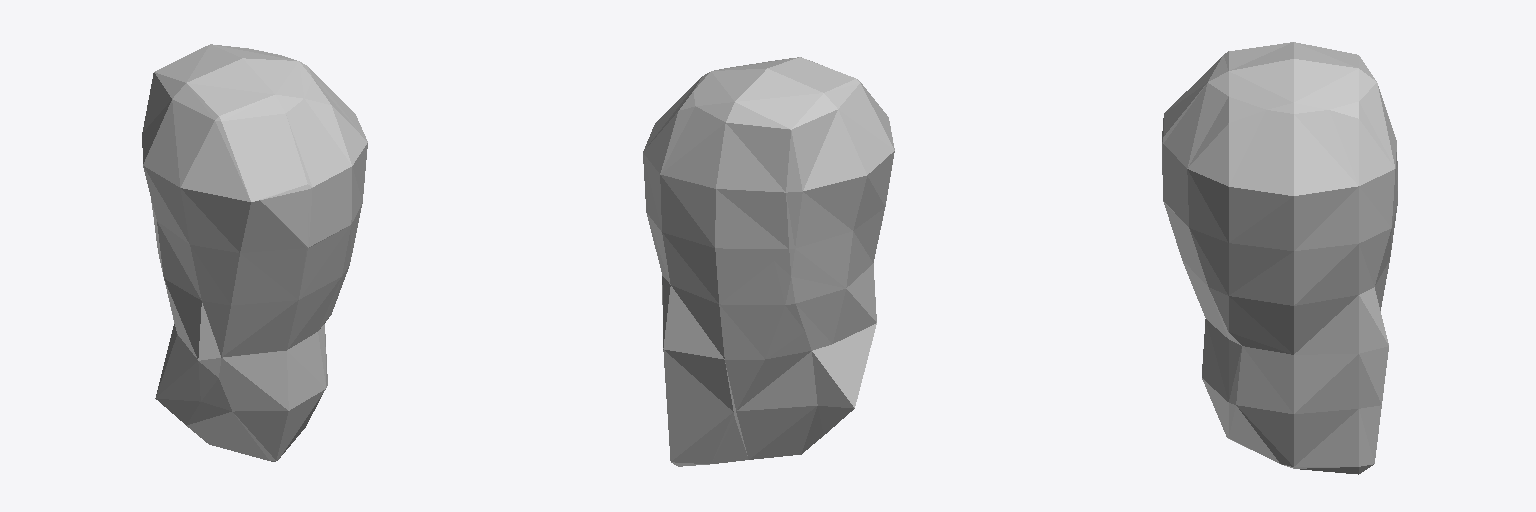
Rendered from testgroot.surface.obj.
3 views of the same model, side by side, from view 1: azimuth 30°, elevation 25°; view 2: azimuth 150°, elevation 25°; view 3: azimuth 270°, elevation 25° (orthographic).
Size of the model in its own units: 53.87 by 94.11 by 51.97.